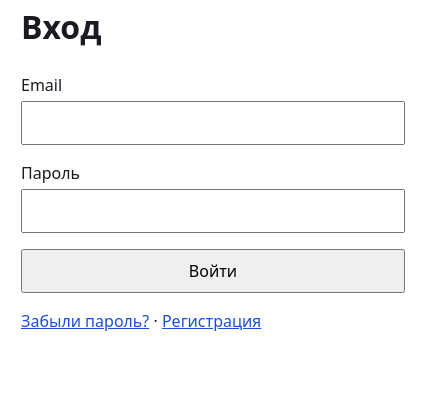
Test case: login › requires email and password
Click the button "Войти": (213, 271) [21,249,405,293]
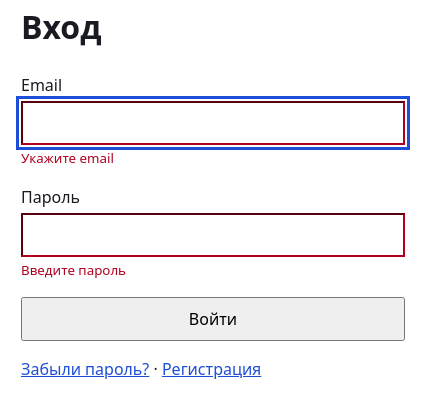
Now the text "Укажите email" is shown, box [21,149,114,167]
Now the text "Введите пароль" is shown, box [21,261,126,279]
